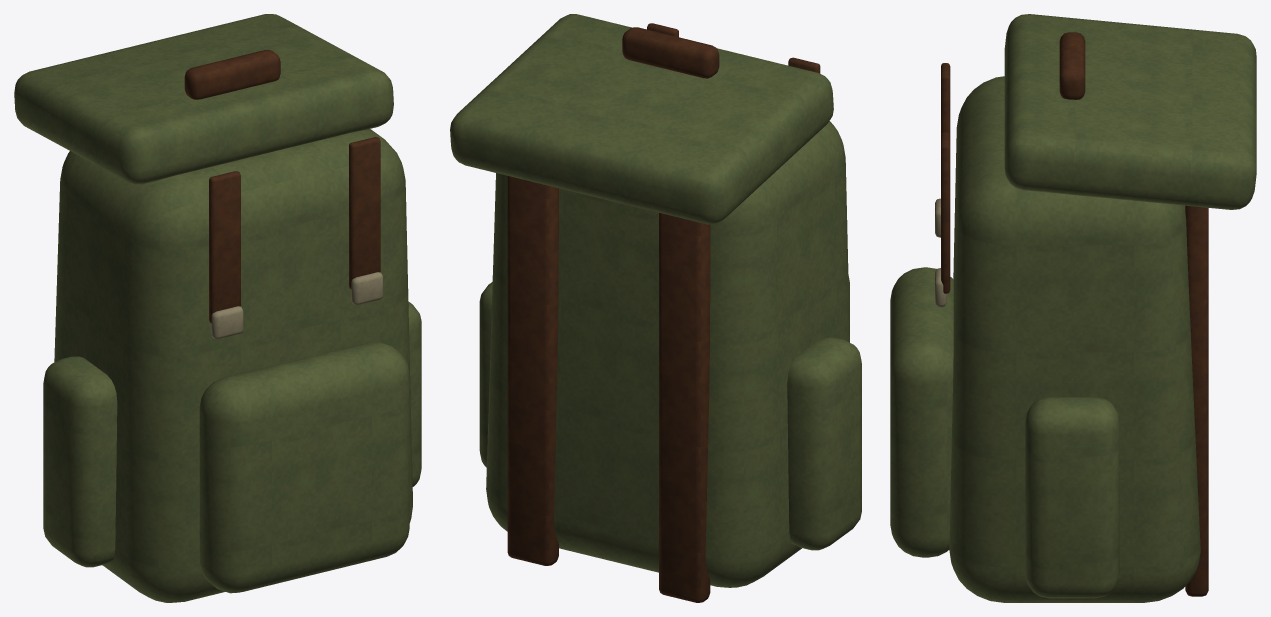
3 views of the same model, side by side, from view 1: azimuth 30°, elevation 25°; view 2: azimuth 150°, elevation 25°; view 3: azimuth 270°, elevation 25° (orthographic).
Parts seen in each view (by area): view 1: korpus, tasche, klappe, seitl, riemen1, riemen2, griff, seitr, schnalle1, schnalle2; view 2: korpus, klappe, gurt2, gurt1, seitl, griff, seitr; view 3: korpus, klappe, seitr, tasche, gurt2, griff, riemen2, riemen1.
Boxes of the visible parts, bbox=[...] form: korpus: bbox=[54, 129, 412, 602]; tasche: bbox=[199, 342, 409, 593]; klappe: bbox=[14, 14, 393, 184]; seitl: bbox=[43, 356, 117, 567]; riemen1: bbox=[209, 171, 240, 323]; riemen2: bbox=[349, 137, 380, 289]; griff: bbox=[184, 50, 280, 99]; seitr: bbox=[408, 301, 421, 486]; schnalle1: bbox=[211, 306, 243, 338]; schnalle2: bbox=[351, 272, 382, 304]; korpus: bbox=[486, 121, 849, 587]; klappe: bbox=[450, 14, 833, 224]; gurt2: bbox=[507, 176, 558, 565]; gurt1: bbox=[659, 213, 710, 602]; seitl: bbox=[787, 337, 861, 550]; griff: bbox=[622, 27, 719, 78]; seitr: bbox=[479, 282, 492, 467]; korpus: bbox=[949, 76, 1200, 602]; klappe: bbox=[1004, 14, 1256, 209]; seitr: bbox=[1025, 397, 1119, 598]; tasche: bbox=[890, 267, 953, 557]; gurt2: bbox=[1185, 205, 1208, 596]; griff: bbox=[1059, 32, 1085, 99]; riemen2: bbox=[941, 132, 950, 293]; riemen1: bbox=[941, 63, 950, 134].
Bounding box in the file's own units: 0.35 × 0.469 × 0.3117.
Materials: 3 (3 with a texture image).
